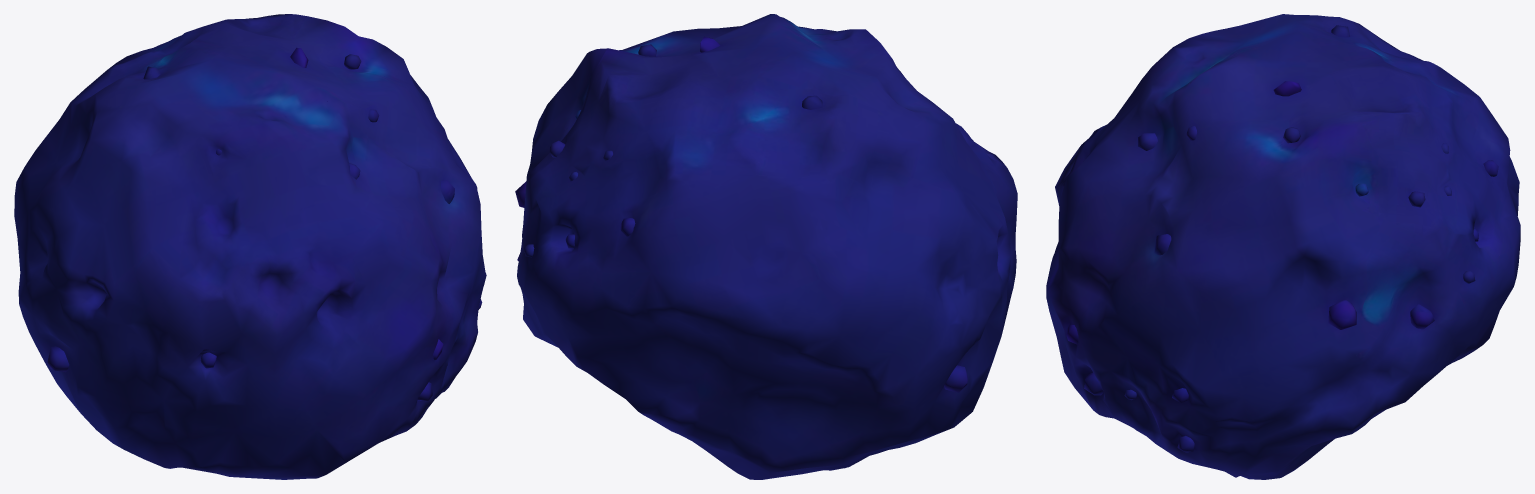
File: nebula-asteroid-512.glb
3 views of the same model, side by side, from view 1: azimuth 30°, elevation 25°; view 2: azimuth 150°, elevation 25°; view 3: azimuth 270°, elevation 25° (orthographic). The views are drawn at different scales.
Parts seen in each view (by area): view 1: tripo_node_cab7a23f-dbd3-43da-8e88-117f39492e94; view 2: tripo_node_cab7a23f-dbd3-43da-8e88-117f39492e94; view 3: tripo_node_cab7a23f-dbd3-43da-8e88-117f39492e94.
Boxes of the visible parts, left/top/right/bottom form: tripo_node_cab7a23f-dbd3-43da-8e88-117f39492e94: left=14, top=14, right=486, bottom=479; tripo_node_cab7a23f-dbd3-43da-8e88-117f39492e94: left=515, top=14, right=1017, bottom=479; tripo_node_cab7a23f-dbd3-43da-8e88-117f39492e94: left=1046, top=14, right=1520, bottom=479.
Bounding box in the file's own units: 0.998 × 0.9238 × 0.9824.
Materials: 1 (1 with a texture image).
